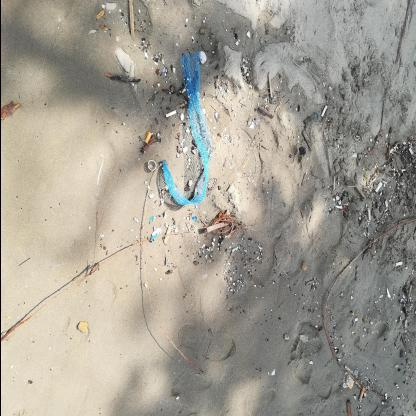diger: (161, 53, 213, 207)
plastik: (148, 161, 157, 173)
